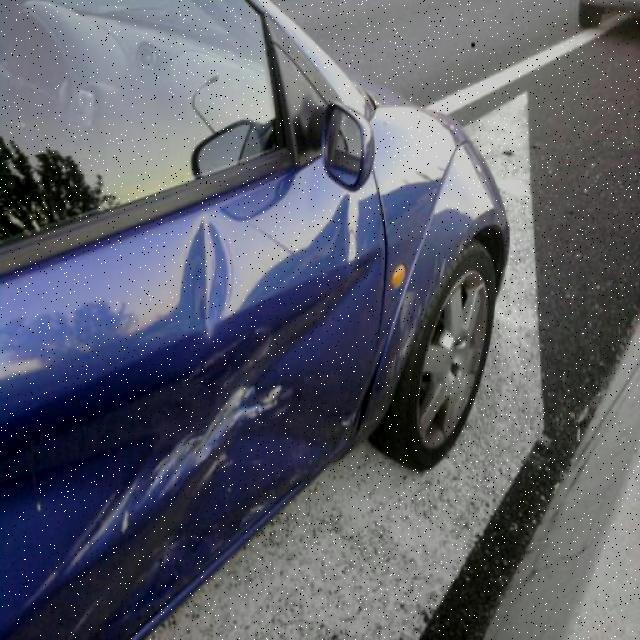car damage: (48, 386, 281, 609), (381, 231, 465, 388), (183, 214, 235, 338)
